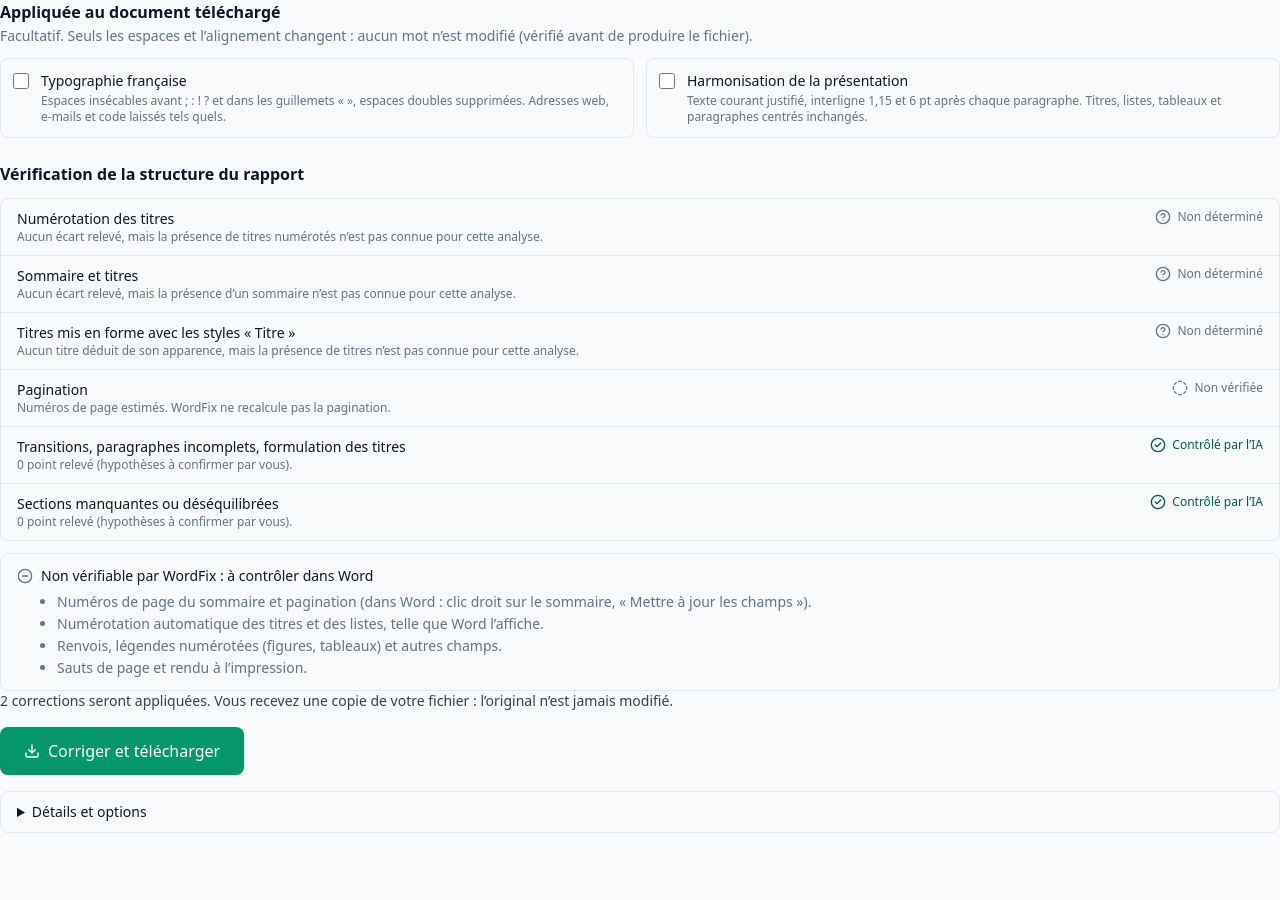
Test: Action principale « Corriger et télécharger » › aucune correction applicable : échec explicite, aucun téléchargement, pas de nouvel essai identique
The width and height of the screenshot is (1280, 900).
Click the button "Corriger et télécharger".
click(122, 751)  # box left=0, top=727, right=244, bottom=775
(page scrolled)
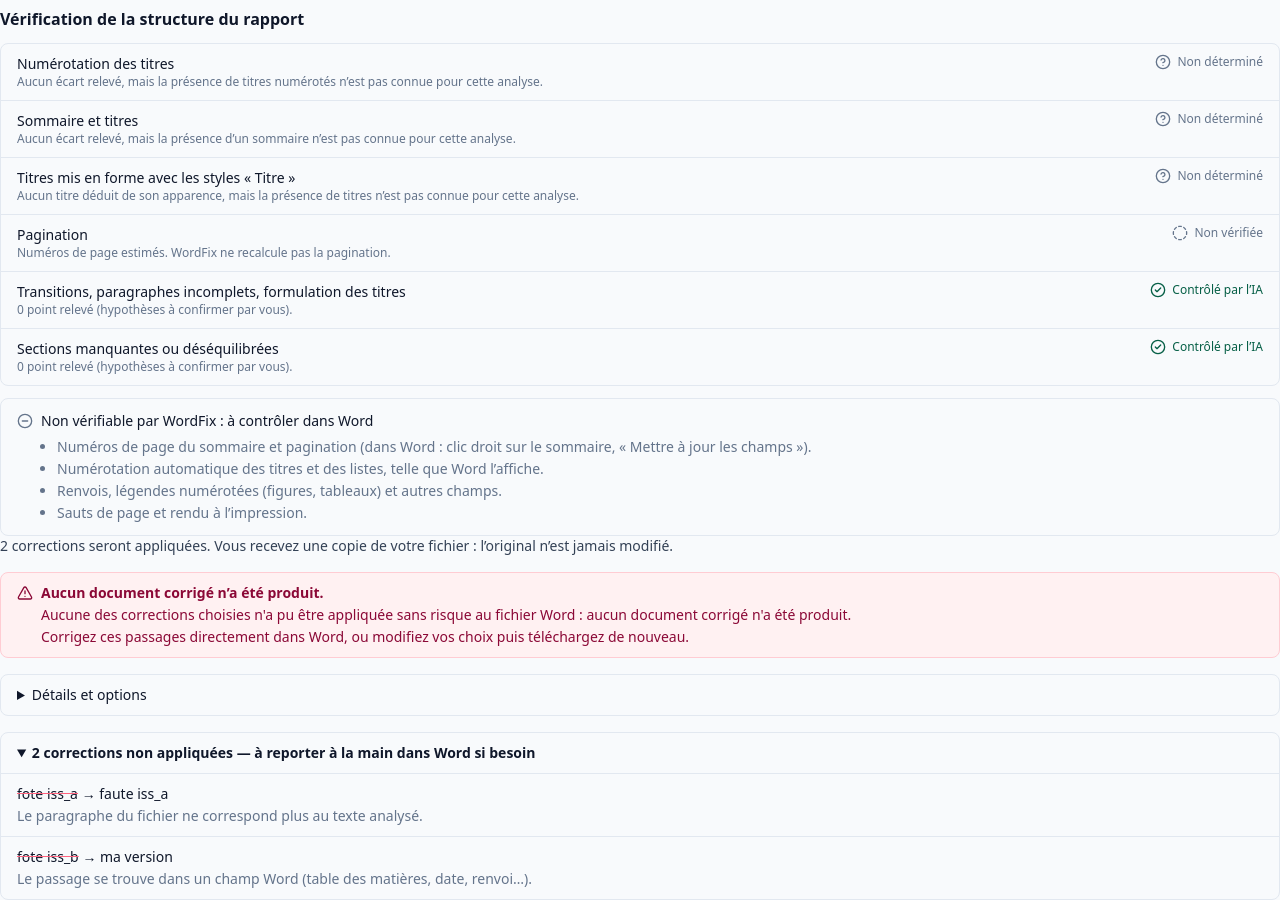
Check: the text "Aucun document corrigé n’a été produit." is shown, box left=41, top=583, right=324, bottom=602
Check: the text "n'a pu être appliquée sans risque" is shown, box left=41, top=605, right=851, bottom=624
Check: the heading "2 corrections non appliquées" is shown, box left=32, top=743, right=536, bottom=762
